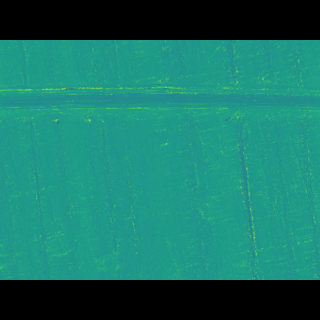Loch: (0, 98, 320, 135)
